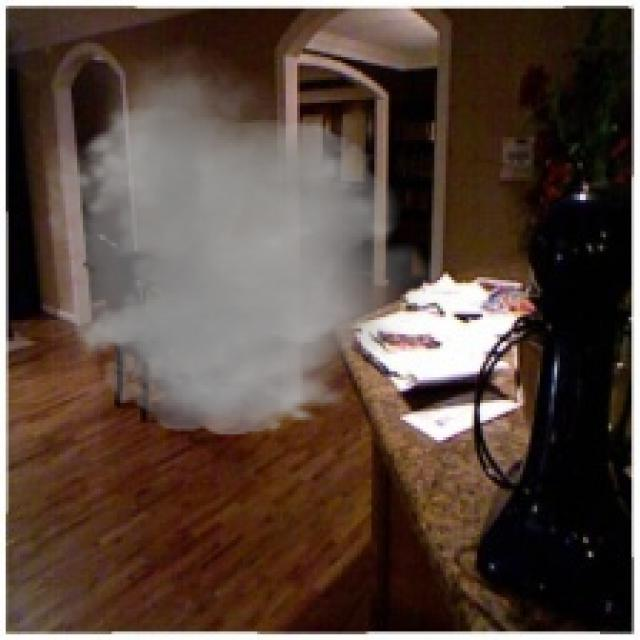smoke: (29, 43, 448, 446)
